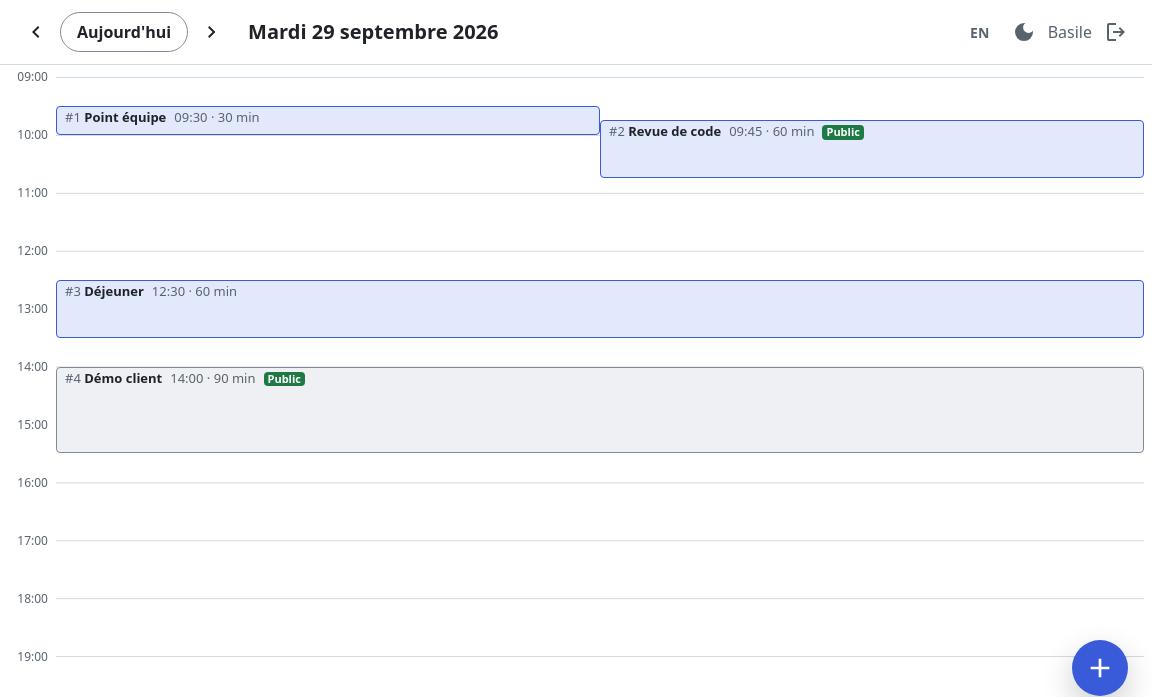
delete › when the server refuses, the event comes back
Expected: the heading "mardi 29 septembre 2026" is shown, [248, 20, 498, 44]
What coordinates should you click on to do the following:
click the button "#1 Point équipe 09:30 · 30 min"
I would click on:
 (125, 117)
Its box is [56, 106, 600, 135].
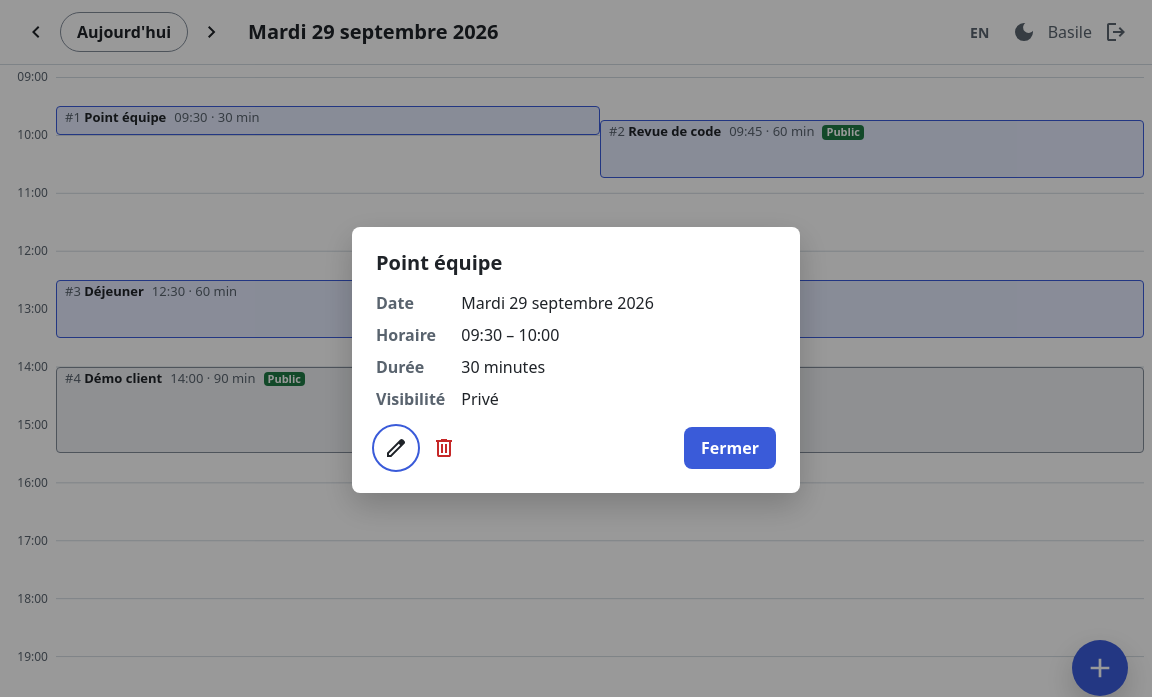
What coordinates should you click on to do the following:
click the button named "Supprimer"
I would click on:
 (444, 448)
Its box is [424, 428, 464, 468].
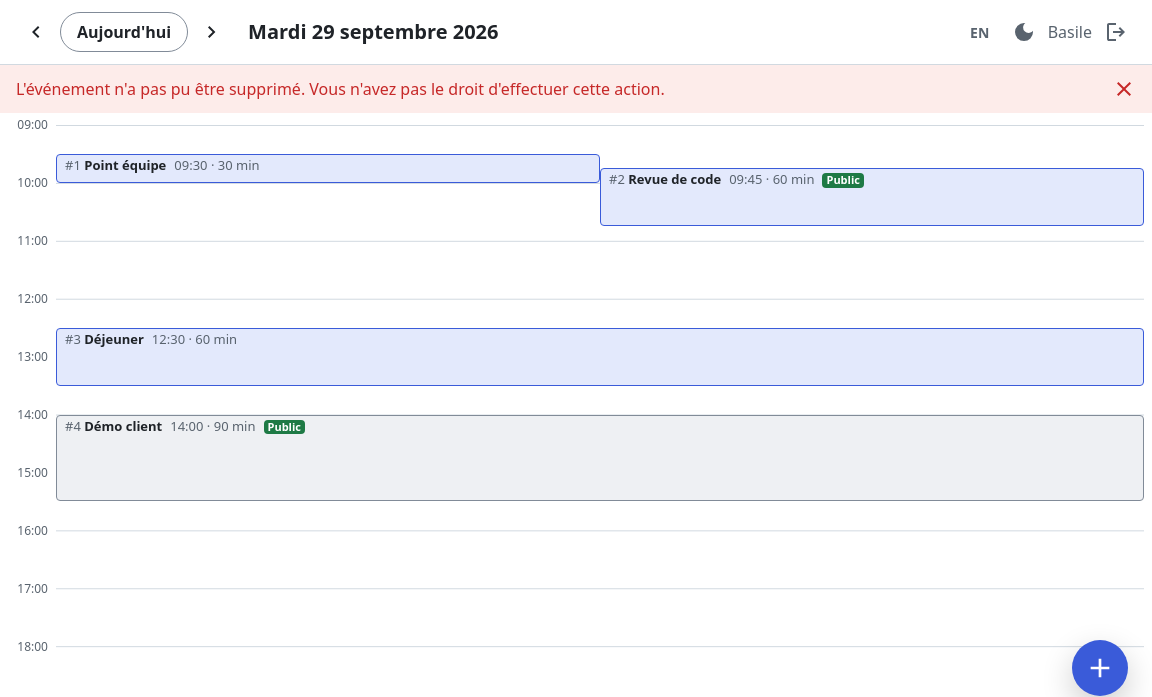
Expected: the message shows "L'événement n'a pas pu être supprimé. Vous n'avez pas le droit d'effectuer cette action.", [16, 78, 665, 100]
